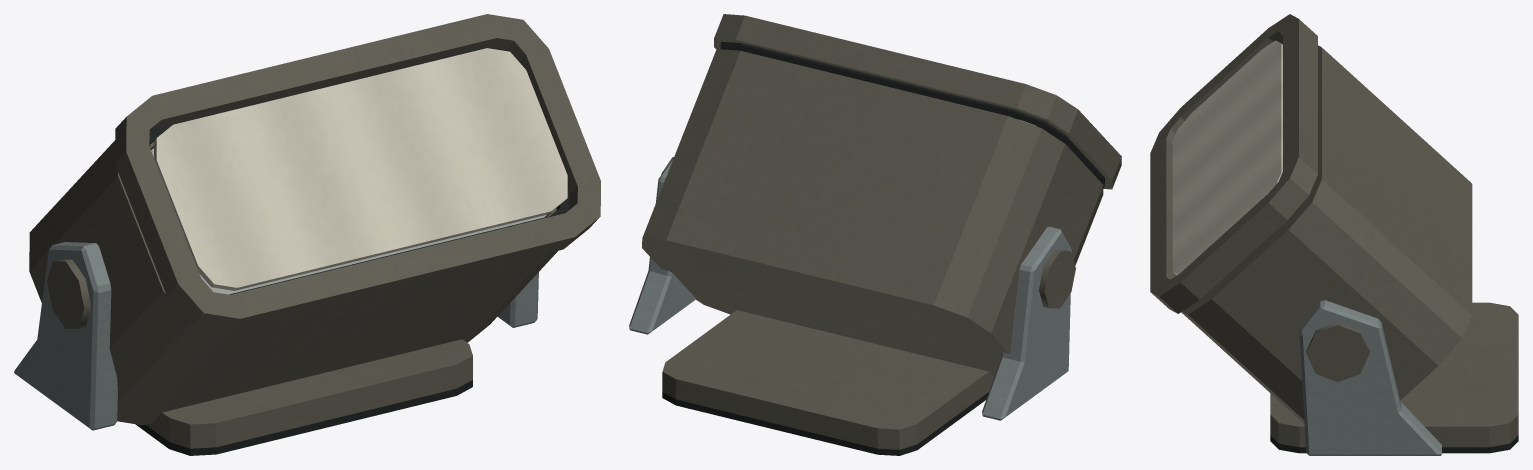
File: SM_Exterior_SignWash_LOD2.fbx
The picture shows the model from 3 angles, left to right: view 1: azimuth 30°, elevation 25°; view 2: azimuth 150°, elevation 25°; view 3: azimuth 270°, elevation 25°; orthographic projection. The views are drawn at different scales.
Parts seen in each view (by area): view 1: SM_Exterior_SignWash_LOD2; view 2: SM_Exterior_SignWash_LOD2; view 3: SM_Exterior_SignWash_LOD2.
Boxes of the visible parts, x1,y1,x2,y2 form: SM_Exterior_SignWash_LOD2: [14, 14, 600, 455]; SM_Exterior_SignWash_LOD2: [629, 14, 1121, 455]; SM_Exterior_SignWash_LOD2: [1150, 14, 1518, 455].
Bounding box in the file's own units: 0.2 × 0.1631 × 0.1481.
